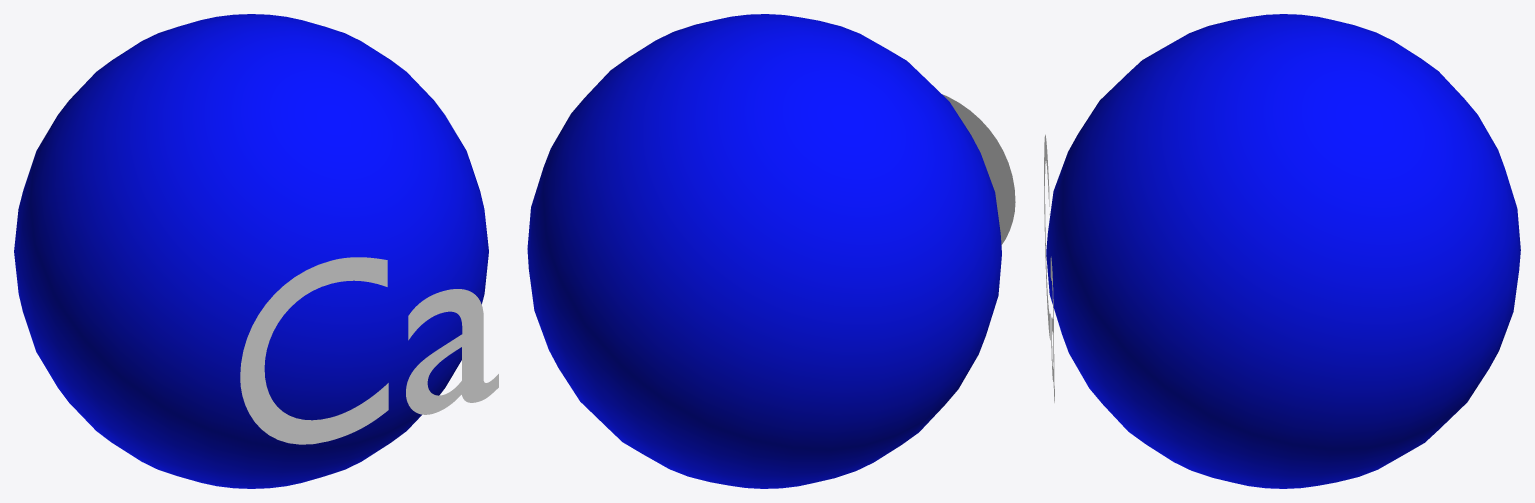
3 renders of one model, left to right at view 1: azimuth 30°, elevation 25°; view 2: azimuth 150°, elevation 25°; view 3: azimuth 270°, elevation 25°, orthographic.
Visible parts, largest first — view 1: 구체, 텍스트; view 2: 구체, 텍스트; view 3: 구체, 텍스트.
Boxes of the visible parts, <box> form: 구체: <box>14,14,488,488</box>; 텍스트: <box>240,257,498,444</box>; 구체: <box>527,14,1001,488</box>; 텍스트: <box>942,94,1015,244</box>; 구체: <box>1046,14,1520,488</box>; 텍스트: <box>1044,134,1054,402</box>.
Bounding box in the file's own units: 250 × 250 × 251.
